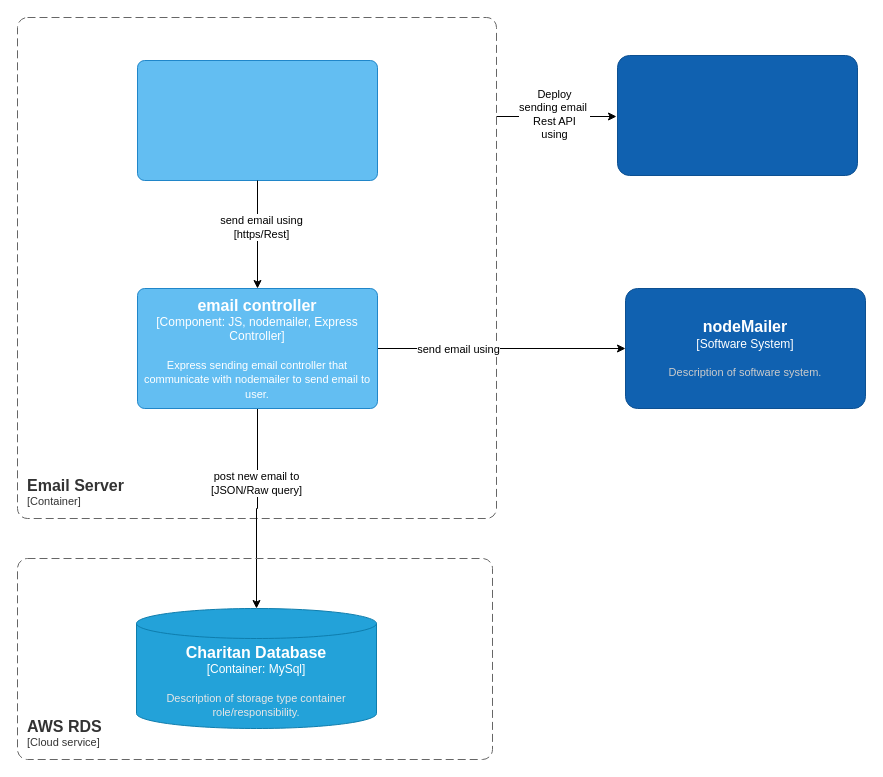
Some shapes in this 883 by 777 pixel diagram are drawn without their labels. The shapes that lost their labels are listed below. From the top down, each one's centre as x and y in pixels, then its label:
the point at 257,120: email router [Component: Express.js, JS] Provides send email routers
the point at 737,115: Vercel [Software System] Deploy email REST API using
